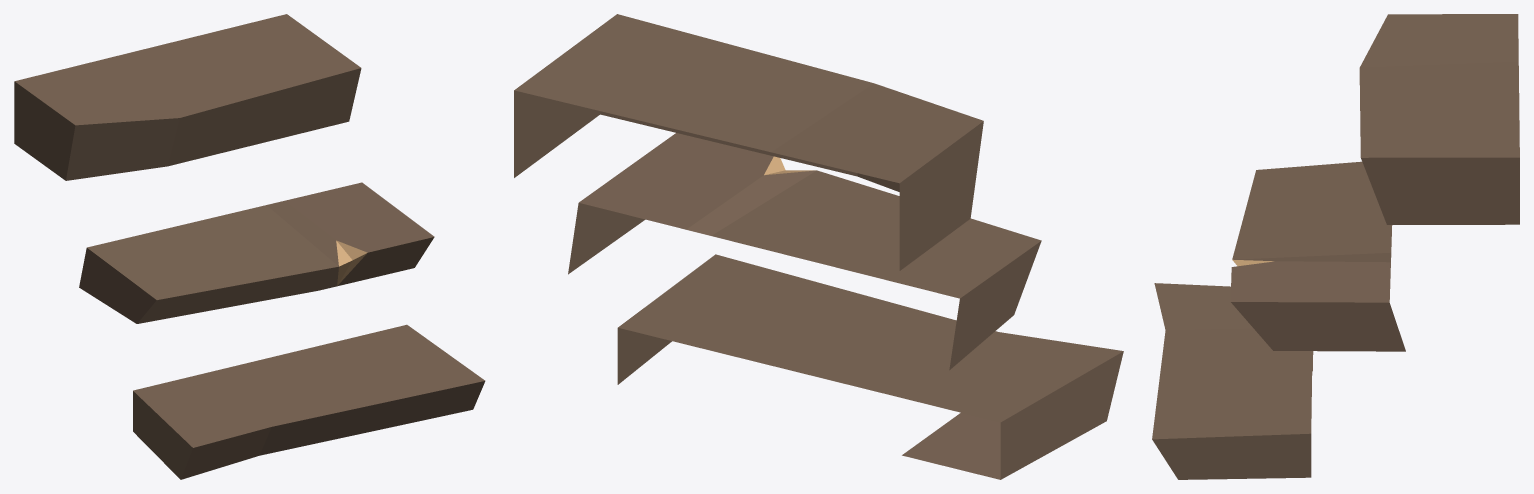
File: Stairs.fbx
3 views of the same model, side by side, from view 1: azimuth 30°, elevation 25°; view 2: azimuth 150°, elevation 25°; view 3: azimuth 270°, elevation 25° (orthographic). The views are drawn at different scales.
Visible parts, largest first — view 1: Stairs; view 2: Stairs; view 3: Stairs.
Part boxes in pixels (<box>): Stairs: <box>14,14,485,479</box>; Stairs: <box>514,14,1123,479</box>; Stairs: <box>1152,14,1519,479</box>.
Bounding box in the file's own units: 101 × 99.41 × 91.83.
